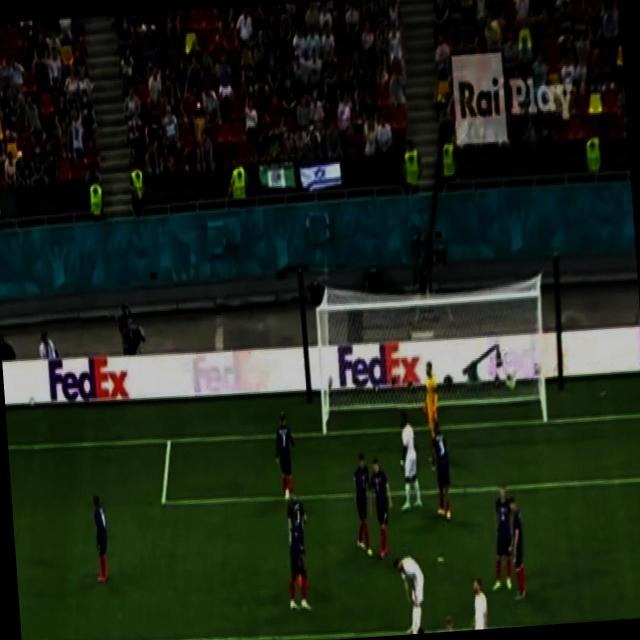ball: (29, 396, 37, 409)
player-white: (366, 456, 398, 560), (485, 485, 515, 593), (283, 509, 313, 613), (393, 409, 423, 511), (392, 553, 428, 635), (419, 359, 444, 474), (271, 407, 301, 502), (350, 450, 376, 559), (284, 486, 312, 586), (504, 495, 528, 603), (429, 419, 453, 523), (91, 490, 111, 584), (466, 575, 489, 630), (434, 611, 464, 633), (405, 626, 425, 635)
